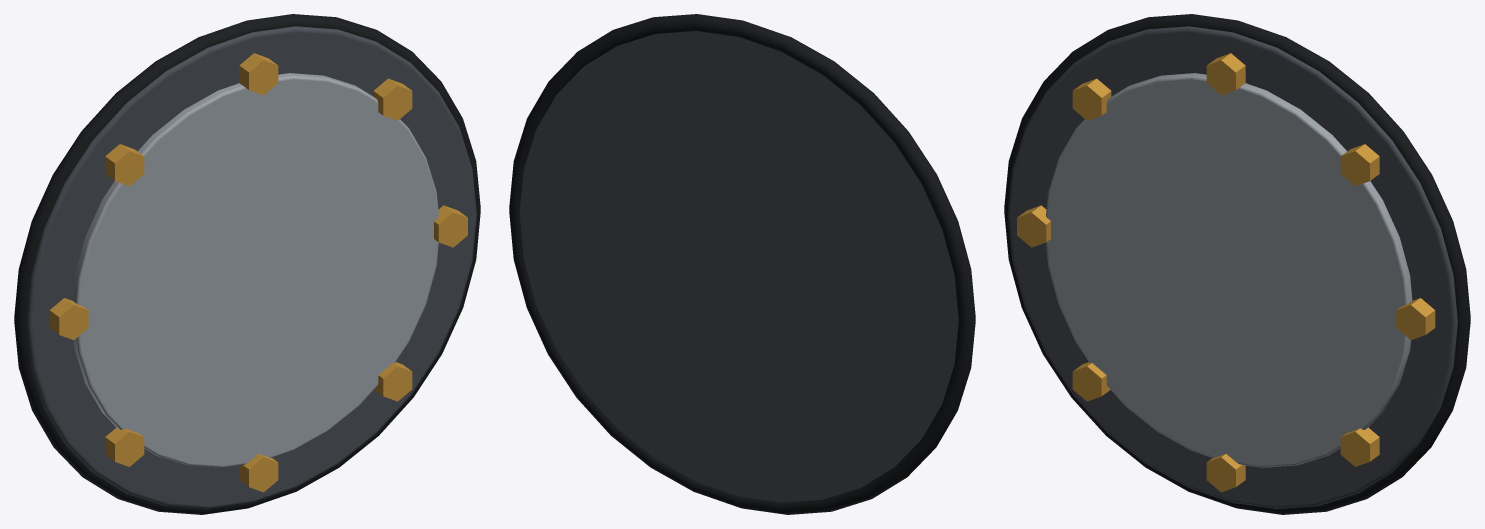
File: HullPatch.glb
3 renders of one model, left to right at view 1: azimuth 30°, elevation 25°; view 2: azimuth 150°, elevation 25°; view 3: azimuth 330°, elevation 25°, orthographic.
Parts seen in each view (by area): view 1: HullPatch_Body; view 2: HullPatch_Body; view 3: HullPatch_Body.
Boxes of the visible parts, x1,y1,x2,y2 form: HullPatch_Body: (14, 14, 480, 514); HullPatch_Body: (509, 14, 975, 514); HullPatch_Body: (1004, 14, 1470, 514).
Bounding box in the file's own units: 0.332 × 0.332 × 0.0252.
